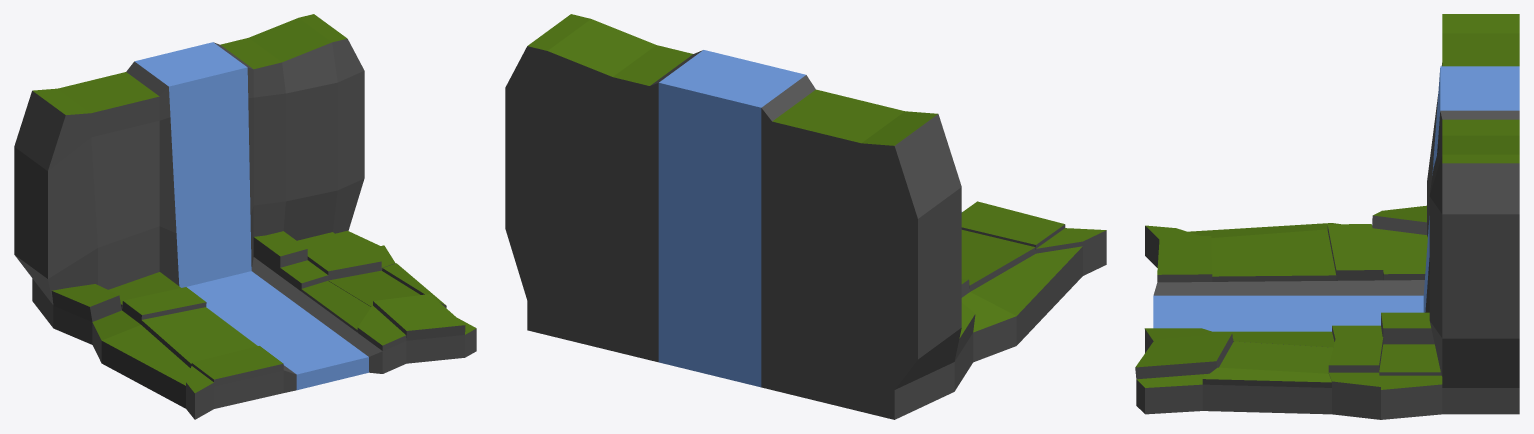
Rendered from Waterfall_Forest.fbx.
3 renders of one model, left to right at view 1: azimuth 30°, elevation 25°; view 2: azimuth 150°, elevation 25°; view 3: azimuth 270°, elevation 25°, orthographic. The views are drawn at different scales.
Parts seen in each view (by area): view 1: Waterfal Forest; view 2: Waterfal Forest; view 3: Waterfal Forest.
Part boxes in pixels (x1,y1,x2,y2): Waterfal Forest: [14, 14, 476, 419]; Waterfal Forest: [505, 14, 1106, 419]; Waterfal Forest: [1135, 14, 1519, 419].
Size of the model in its own units: 1339 by 881 by 1223.
